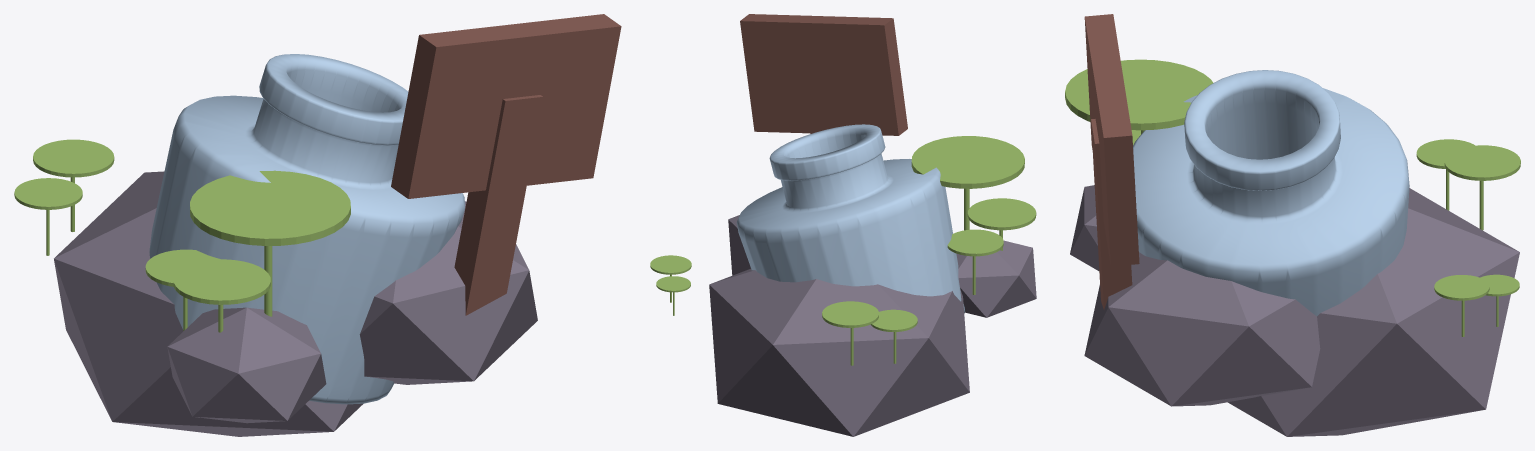
The model's file is variableblock.fbx.
3 views of the same model, side by side, from view 1: azimuth 30°, elevation 25°; view 2: azimuth 150°, elevation 25°; view 3: azimuth 270°, elevation 25° (orthographic). The views are drawn at different scales.
Visible parts, largest first — view 1: Icosphere; view 2: Icosphere; view 3: Icosphere.
Part boxes in pixels (x1,y1,x2,y2): Icosphere: (14, 14, 621, 436); Icosphere: (650, 14, 1036, 436); Icosphere: (1065, 14, 1520, 436).
Bounding box in the file's own units: 209 × 226 × 208.
